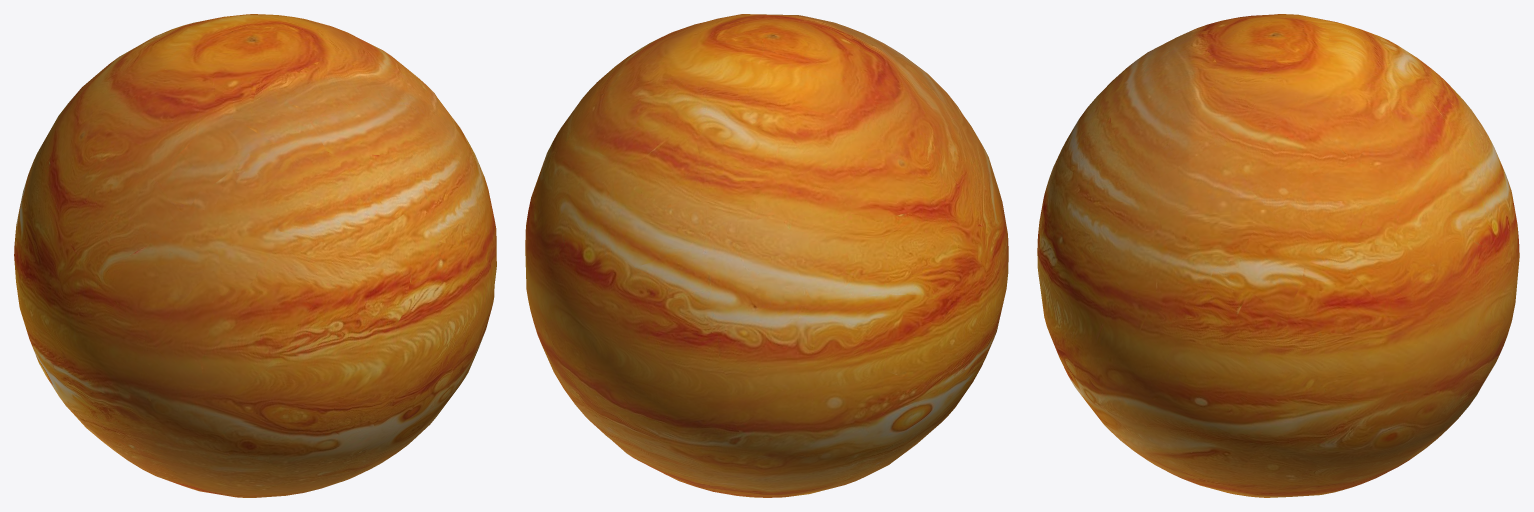
File: titan.glb
The picture shows the model from 3 angles, left to right: view 1: azimuth 30°, elevation 25°; view 2: azimuth 150°, elevation 25°; view 3: azimuth 270°, elevation 25°; orthographic projection.
Size of the model in its own units: 2 by 2 by 1.99.
1 material, 1 textured.
